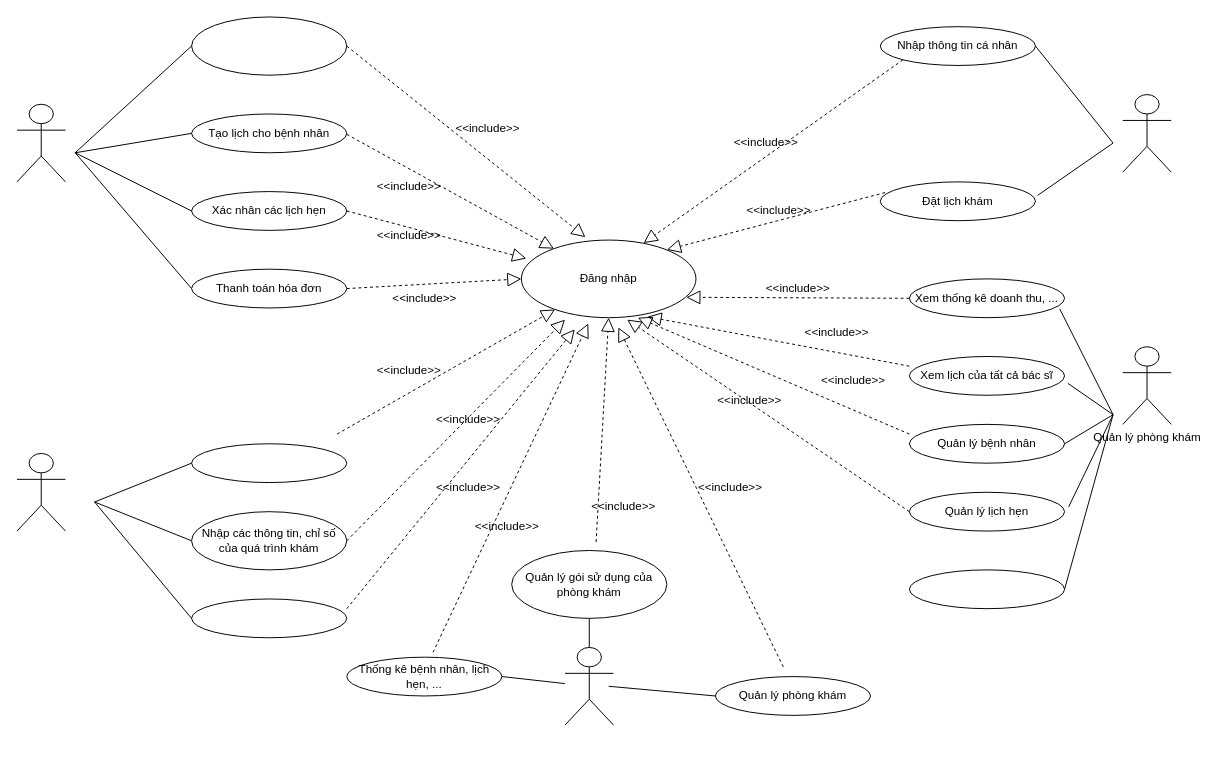
This 1217x762 diagram has some shape labels left out. Each missing label, with the centre of its shape:
"Admin" belongs at point 589,686.
"Bác sĩ" belongs at point 40,492.
"Bệnh nhân" belongs at point 1146,133.
"Lễ tân" belongs at point 40,142.
"Nhập thông tin bệnh nhân" belongs at point 269,45.
"Quản lý kho thuốc" belongs at point 986,589.
"Thêm dịch vụ, thuốc" belongs at point 269,618.
"Xem lịch hẹn" belongs at point 269,463.
